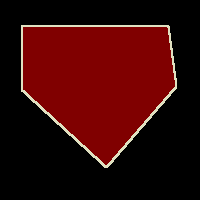tie: (22, 26, 176, 167)
